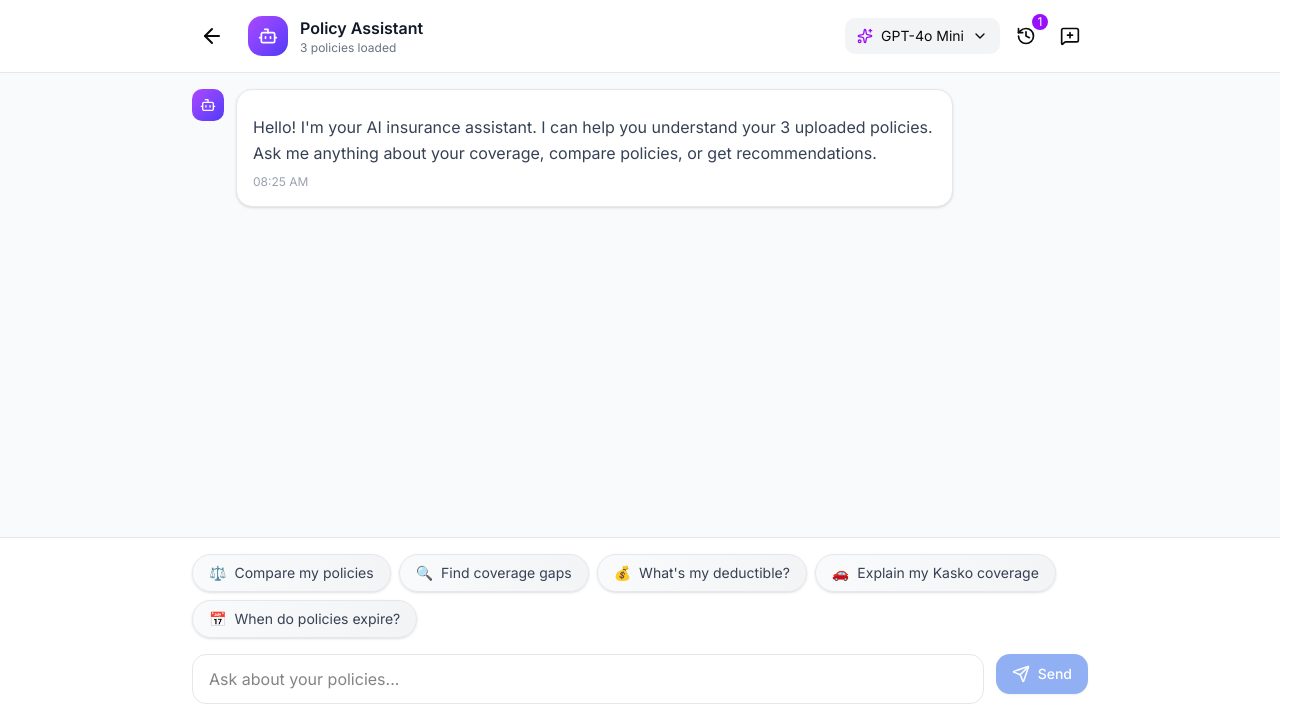
PolicyChat › Conversation History › should show history sidebar when history button is clicked
This screenshot has width=1292, height=720.
Click the button with test id "history-button" at coordinates (1026, 36), box [1008,18,1044,54]
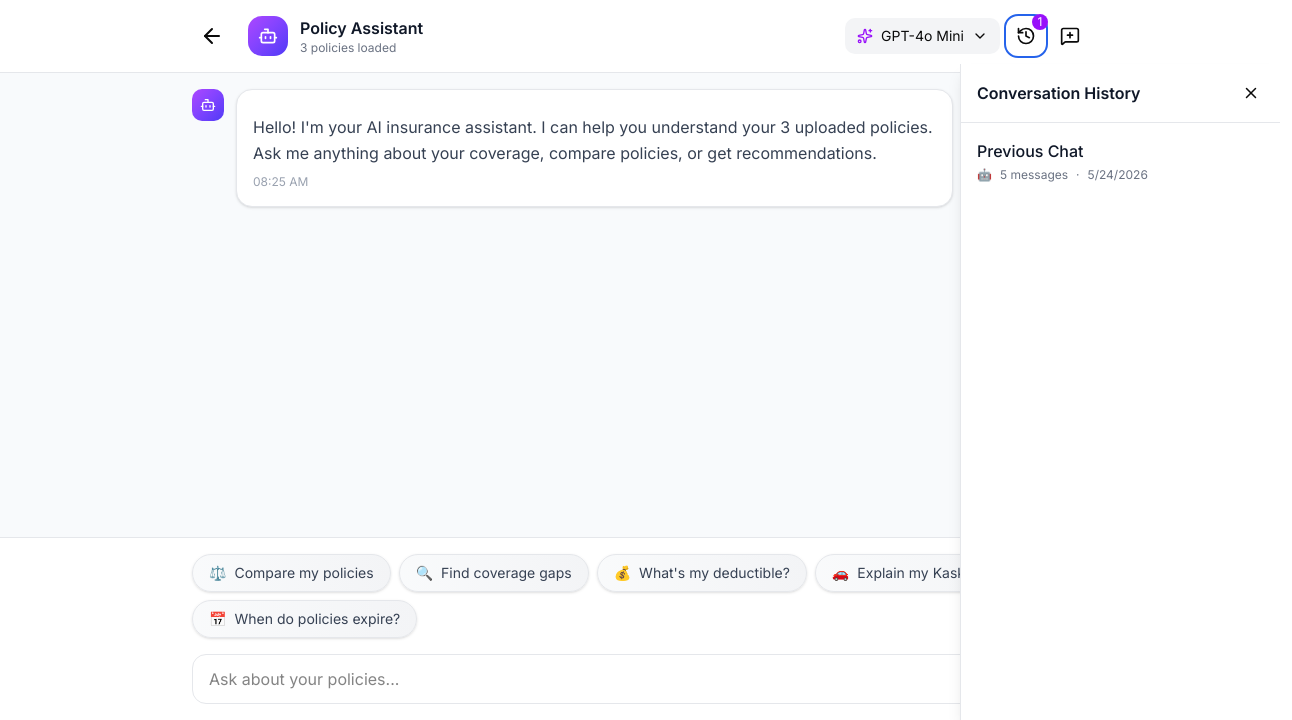
Check: the heading "Conversation History" is shown, box [977,81,1140,105]
